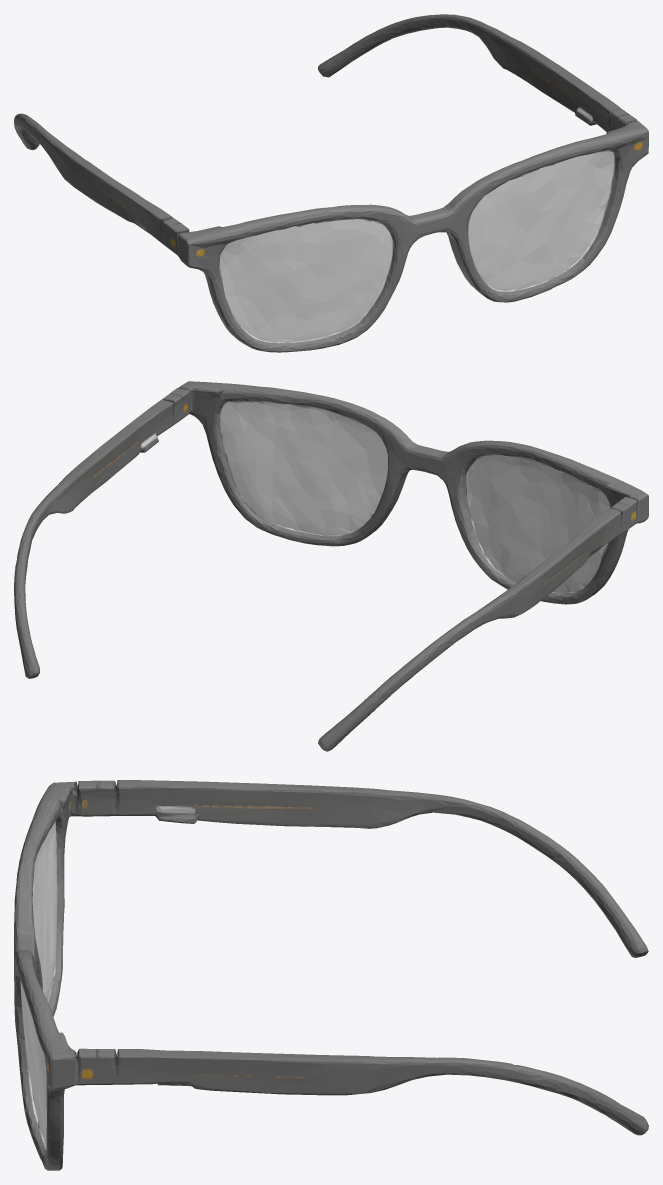
File: project26.glb
3 views of the same model, one above another, from view 1: azimuth 30°, elevation 25°; view 2: azimuth 150°, elevation 25°; view 3: azimuth 270°, elevation 25° (orthographic). The views are drawn at different scales.
Parts seen in each view (by area): view 1: world; view 2: world; view 3: world.
Part boxes in pixels (bbox=[...]): world: bbox=[14, 14, 648, 352]; world: bbox=[14, 381, 648, 751]; world: bbox=[14, 780, 648, 1170].
Bounding box in the file's own units: 1 × 0.2963 × 0.9712.
Materials: 1 (1 with a texture image).
